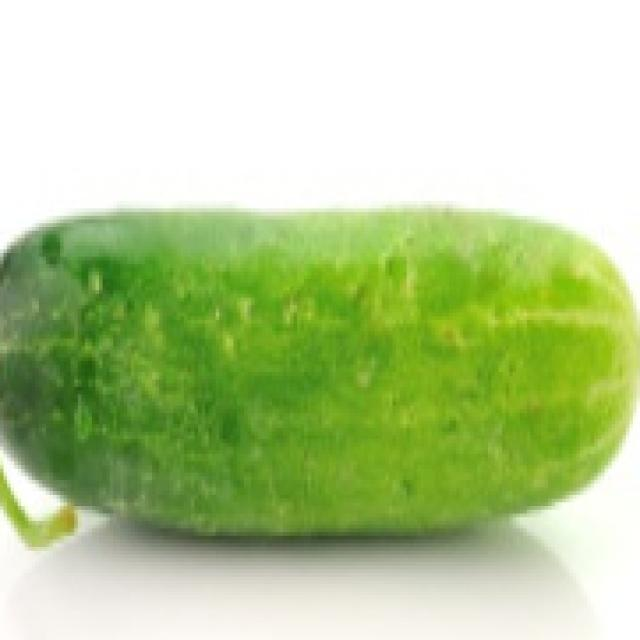cucumber: (0, 201, 636, 536)
